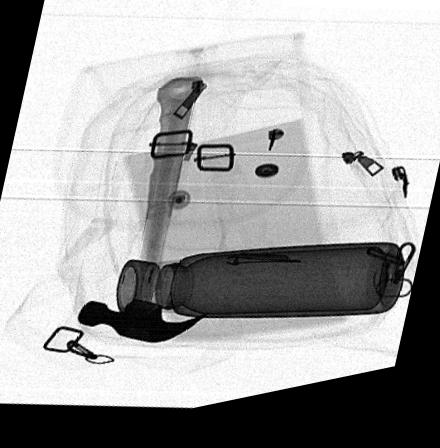Hammer: (76, 84, 209, 350)
